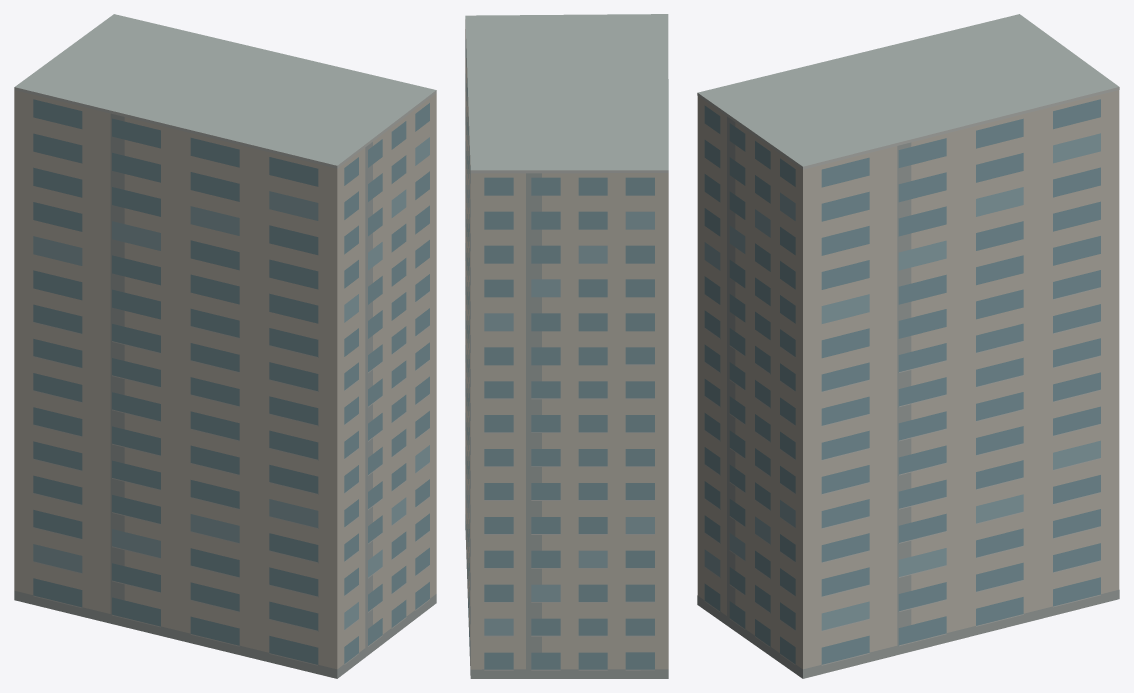
The model's file is residential-1c738346-643d-46fb-bb0e-9bcc92eac1c1.glb.
The picture shows the model from 3 angles, left to right: view 1: azimuth 30°, elevation 25°; view 2: azimuth 150°, elevation 25°; view 3: azimuth 270°, elevation 25°; orthographic projection.
Visible parts, largest first — view 1: residential-1c738346-643d-46fb-bb0e-9bcc92eac1c1.tmp; view 2: residential-1c738346-643d-46fb-bb0e-9bcc92eac1c1.tmp; view 3: residential-1c738346-643d-46fb-bb0e-9bcc92eac1c1.tmp.
Part boxes in pixels (x1,y1,x2,y2): residential-1c738346-643d-46fb-bb0e-9bcc92eac1c1.tmp: [14, 14, 436, 678]; residential-1c738346-643d-46fb-bb0e-9bcc92eac1c1.tmp: [465, 14, 668, 678]; residential-1c738346-643d-46fb-bb0e-9bcc92eac1c1.tmp: [697, 14, 1119, 678].
Size of the model in its own units: 26.86 by 42 by 31.37.
